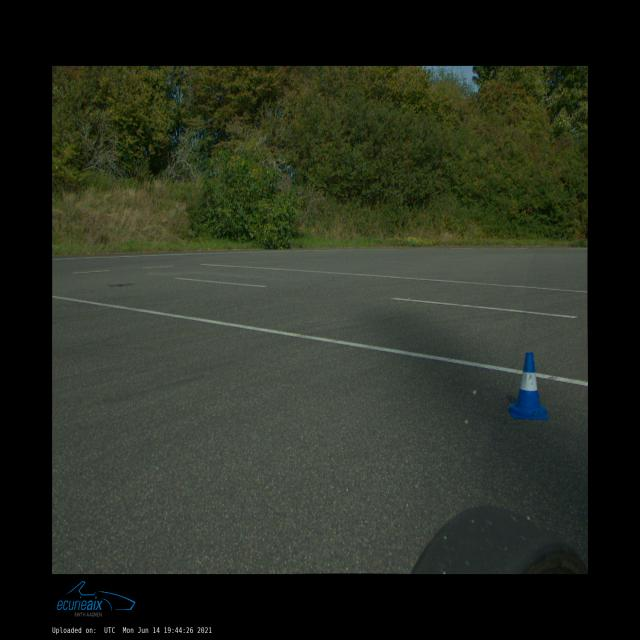blue_cone: (508, 353, 548, 419)
